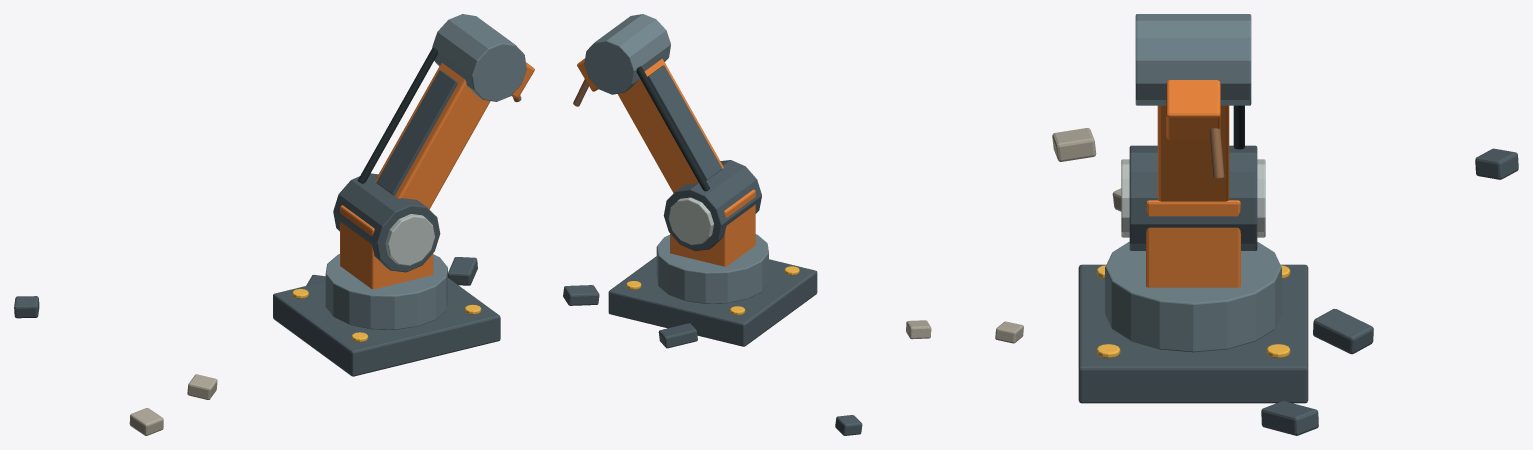
The model's file is robotic_arm_d2.glb.
3 renders of one model, left to right at view 1: azimuth 30°, elevation 25°; view 2: azimuth 150°, elevation 25°; view 3: azimuth 270°, elevation 25°, orthographic. The views are drawn at different scales.
Parts seen in each view (by area): view 1: Robot mounting plinth.034, Azimuth bearing.034, Elbow drive.026, Upper articulated link.026, Shoulder joint.026, Upper link inset.026, Shoulder housing.026, Shoulder motor cover.052, Upper service line.026, Debris fragment.027, Debris fragment.026, Debris fragment.028 (+1 smaller); view 2: Robot mounting plinth.034, Azimuth bearing.034, Elbow drive.026, Upper articulated link.026, Shoulder joint.026, Upper link inset.026, Shoulder housing.026, Shoulder motor cover.053, Upper service line.026, Debris fragment.025, Debris fragment.027, Debris fragment.026 (+2 smaller); view 3: Robot mounting plinth.034, Azimuth bearing.034, Elbow drive.026, Shoulder housing.026, Shoulder joint.026, Upper articulated link.026, Severed forearm.008, Debris fragment.025, Debris fragment.027, Debris fragment.026, Debris fragment.029, Shoulder motor cover.052 (+3 smaller).
Boxes of the visible parts, x1,y1,x2,y2 form: Robot mounting plinth.034: (273, 278, 500, 376); Azimuth bearing.034: (325, 254, 447, 329); Elbow drive.026: (432, 14, 526, 101); Upper articulated link.026: (375, 63, 490, 209); Shoulder joint.026: (333, 173, 440, 272); Upper link inset.026: (376, 70, 458, 195); Shoulder housing.026: (340, 205, 433, 289); Shoulder motor cover.052: (385, 214, 434, 265); Upper service line.026: (358, 47, 437, 183); Debris fragment.027: (448, 257, 477, 285); Debris fragment.026: (129, 408, 163, 435); Debris fragment.028: (187, 374, 217, 399); Robot mounting plinth.034: (608, 256, 817, 346); Azimuth bearing.034: (656, 234, 768, 303); Elbow drive.026: (584, 14, 670, 94); Upper articulated link.026: (618, 58, 723, 193); Shoulder joint.026: (663, 160, 761, 251); Upper link inset.026: (647, 65, 722, 180); Shoulder housing.026: (670, 189, 755, 266); Shoulder motor cover.053: (668, 197, 713, 244); Upper service line.026: (636, 66, 709, 191); Debris fragment.025: (658, 323, 697, 348); Debris fragment.027: (563, 285, 599, 305); Debris fragment.026: (995, 321, 1023, 343); Robot mounting plinth.034: (1078, 264, 1308, 403); Azimuth bearing.034: (1105, 241, 1281, 352); Elbow drive.026: (1135, 14, 1251, 105); Shoulder housing.026: (1146, 200, 1240, 287); Shoulder joint.026: (1129, 145, 1257, 250); Upper articulated link.026: (1157, 105, 1229, 201); Severed forearm.008: (1166, 80, 1220, 139); Debris fragment.025: (1313, 309, 1373, 354); Debris fragment.027: (1261, 401, 1318, 435); Debris fragment.026: (1052, 128, 1096, 161); Debris fragment.029: (1475, 148, 1518, 179); Shoulder motor cover.052: (1121, 159, 1129, 237).
Size of the model in its own units: 4.24 by 2.6 by 2.74.
